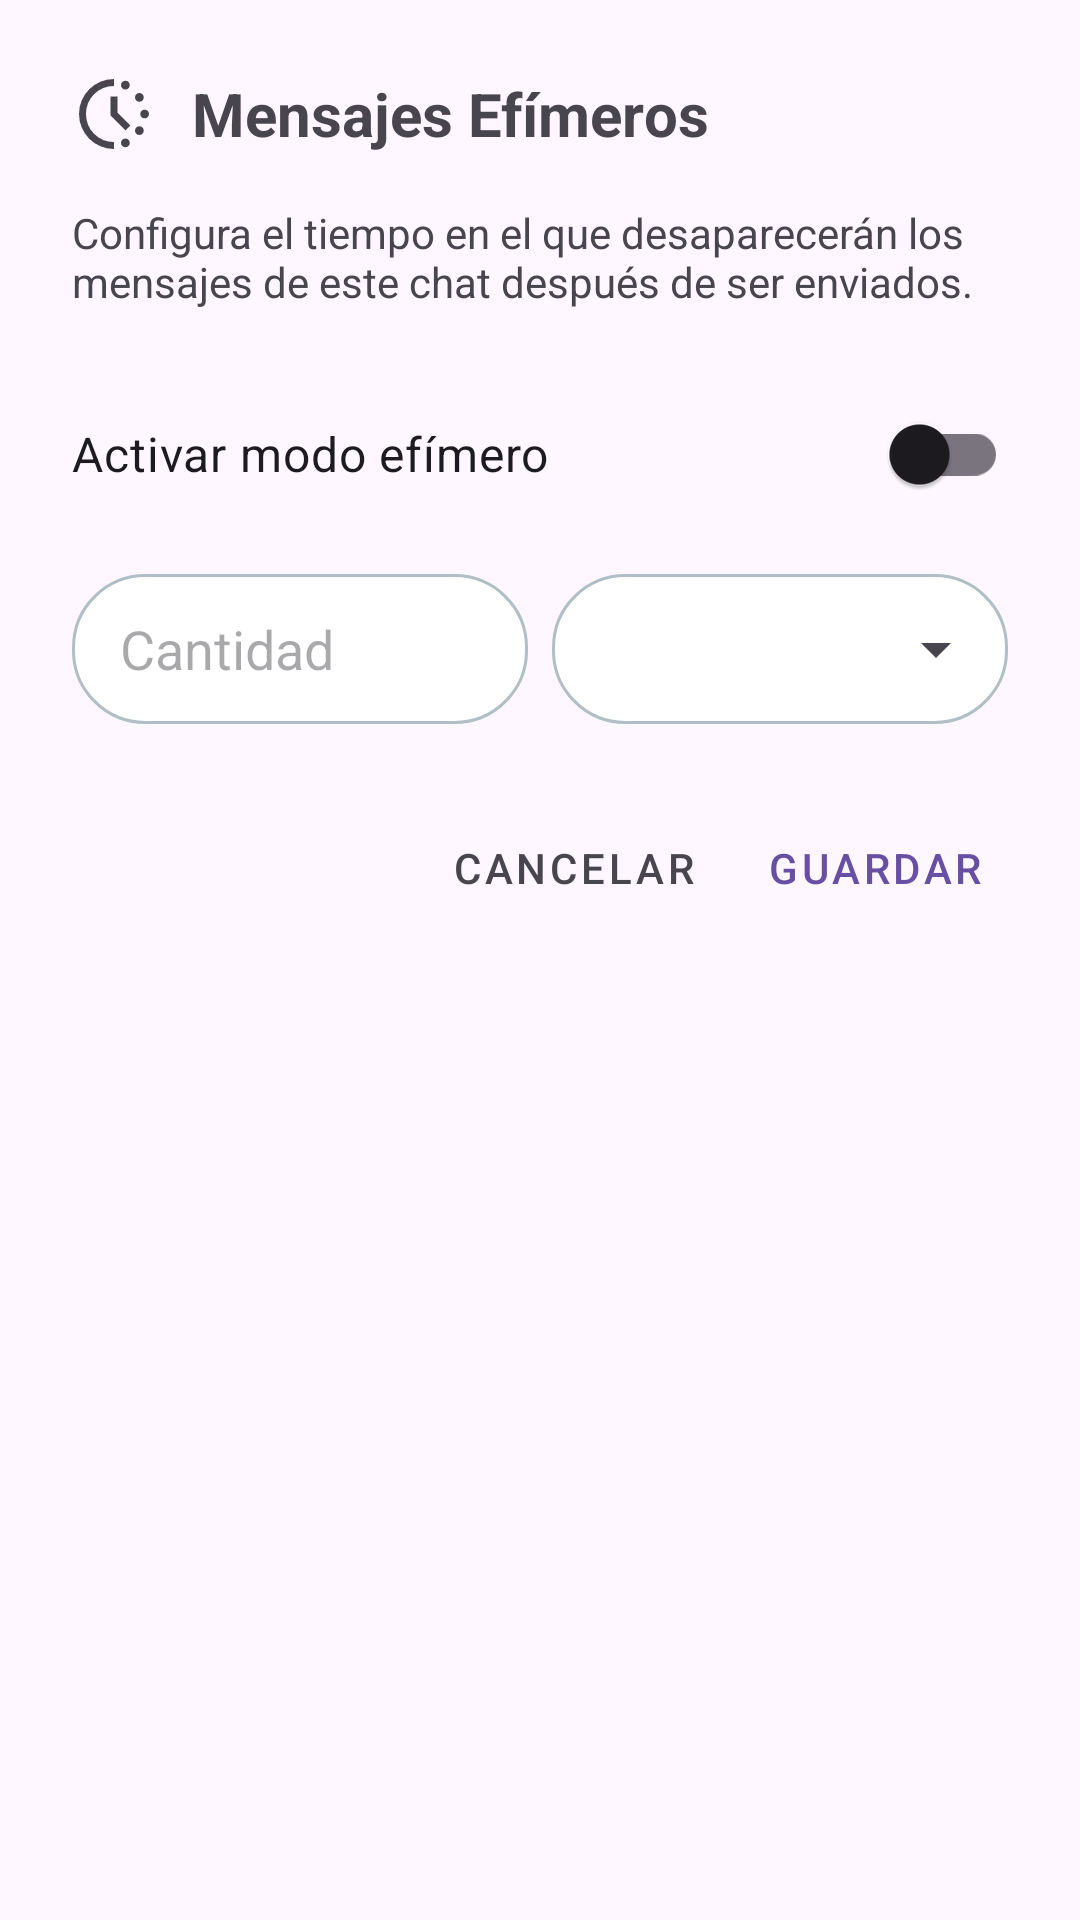

Where icons sit on this 1080 × 1920 app screen, as region(x1, y1, x2, y2):
msg clock: region(79, 79, 149, 149)
